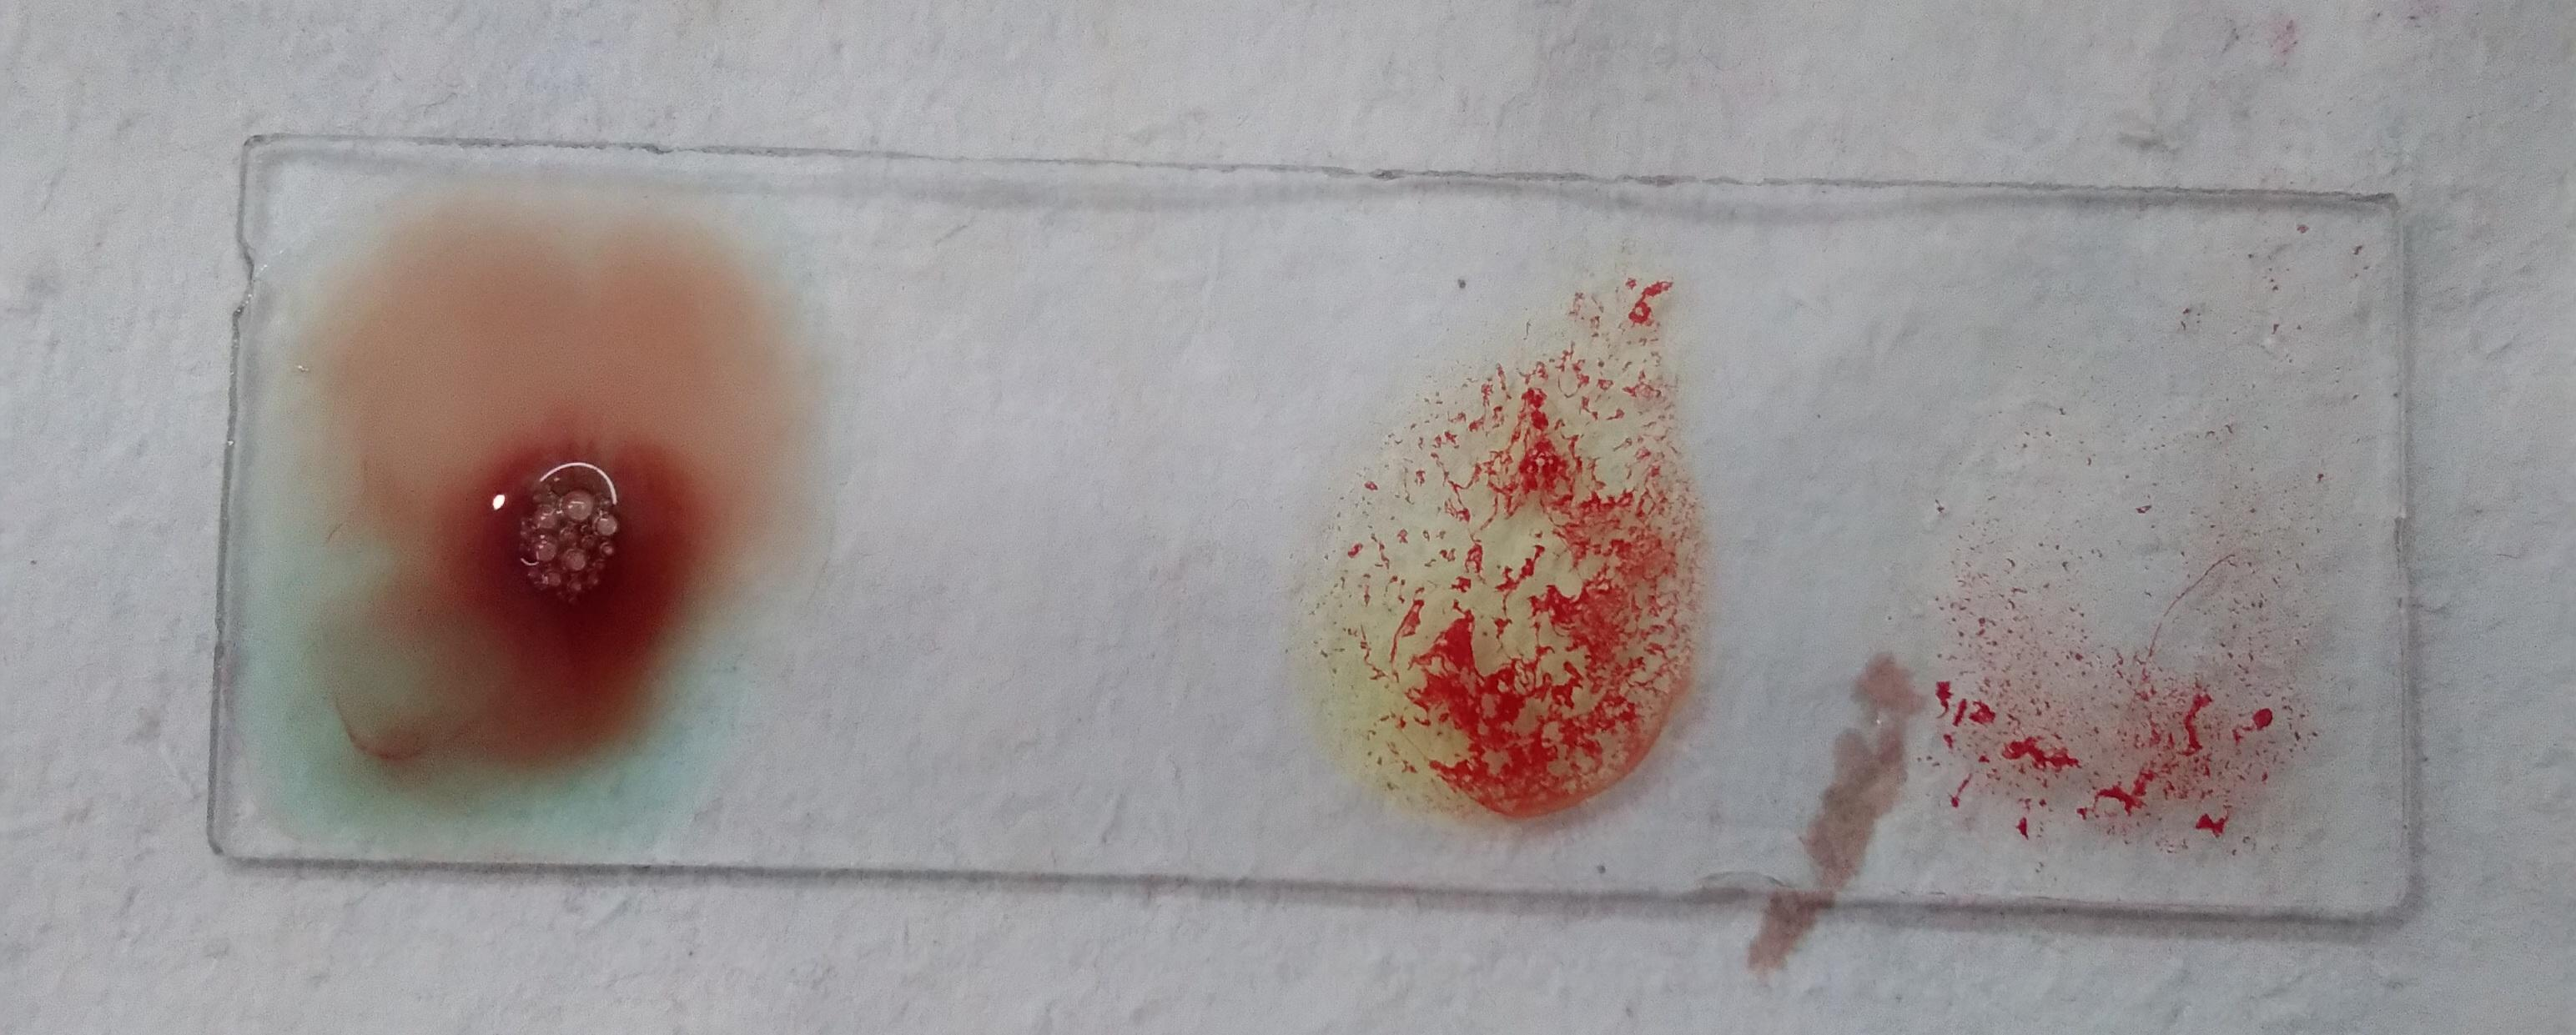B: (1357, 286, 1690, 844)
D: (1896, 366, 2344, 872)
